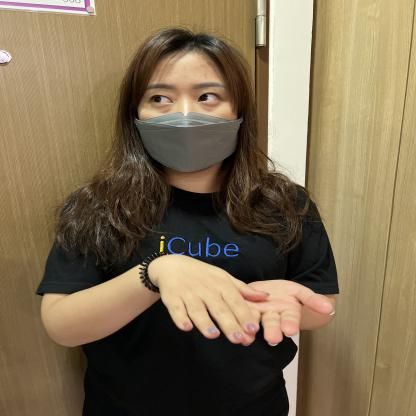Love: (113, 206, 370, 378)
